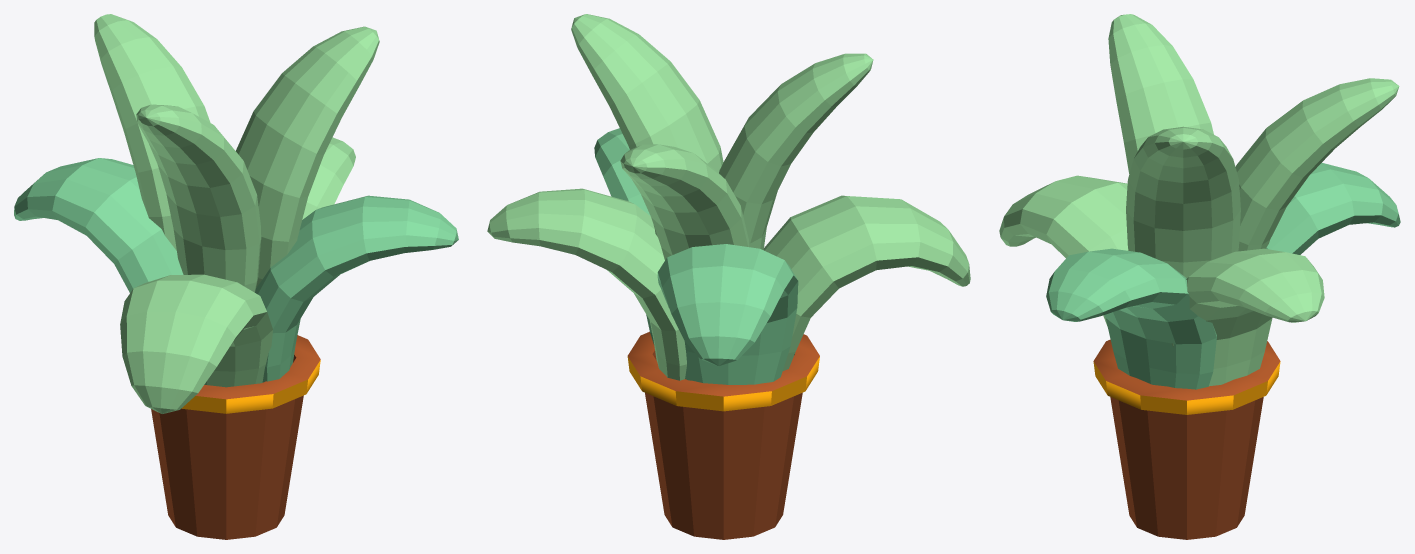
The model's file is potted_plant04.fbx.
The picture shows the model from 3 angles, left to right: view 1: azimuth 30°, elevation 25°; view 2: azimuth 150°, elevation 25°; view 3: azimuth 270°, elevation 25°; orthographic projection. The views are drawn at different scales.
Visible parts, largest first — view 1: potted_plant04; view 2: potted_plant04; view 3: potted_plant04.
Boxes of the visible parts, x1=… form: potted_plant04: x1=14, y1=14, x2=458, y2=539; potted_plant04: x1=487, y1=14, x2=970, y2=539; potted_plant04: x1=999, y1=14, x2=1400, y2=539.
Size of the model in its own units: 1.46 by 1.85 by 1.5.
